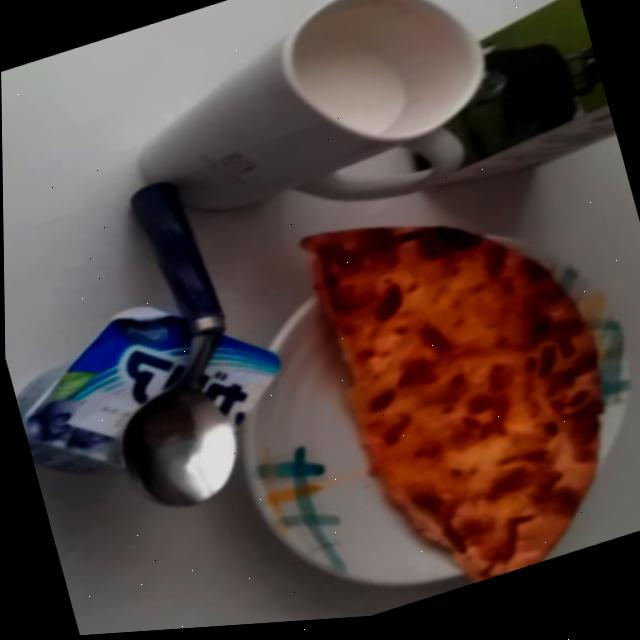汉堡快餐: (214, 165, 640, 629)
